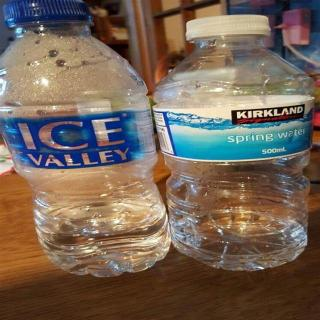Plastic-bottle: (1, 1, 175, 279), (146, 7, 320, 281)
